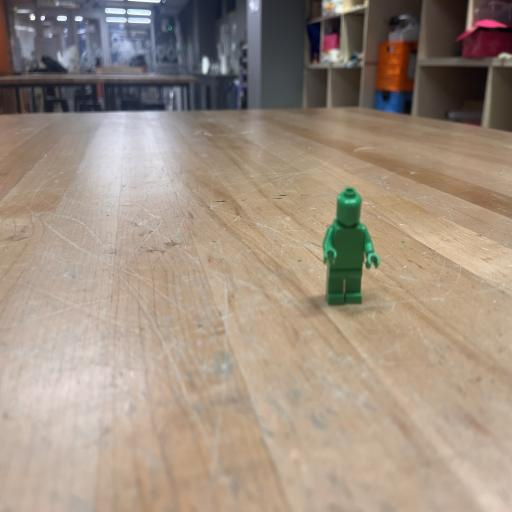Lego-Minifig: (323, 187, 380, 304)
